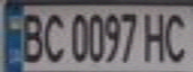0: (66, 9, 90, 63), (87, 9, 106, 63)
7: (118, 9, 142, 63)
9: (103, 9, 124, 63)
B: (15, 9, 45, 64)
C: (160, 8, 193, 63), (39, 9, 69, 64)
H: (139, 8, 172, 63)
